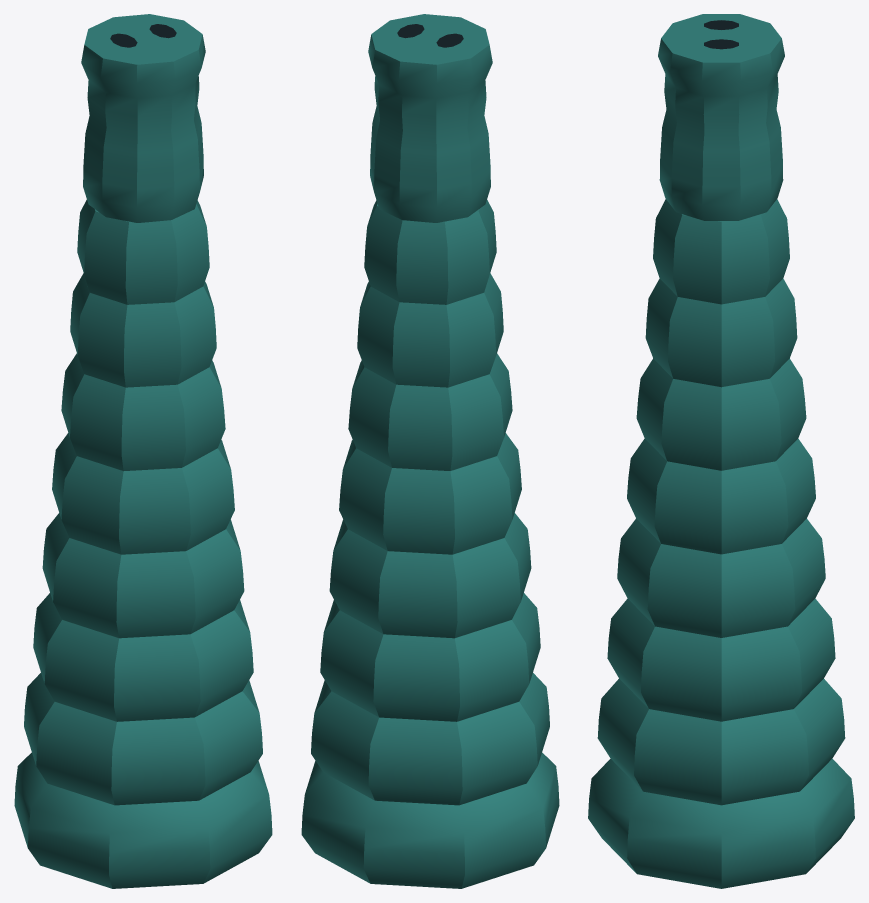
Rendered from trunk_long.glb.
The picture shows the model from 3 angles, left to right: view 1: azimuth 30°, elevation 25°; view 2: azimuth 150°, elevation 25°; view 3: azimuth 270°, elevation 25°; orthographic projection.
Parts seen in each view (by area): view 1: trunk_long_seg0, trunk_long_seg1, trunk_long_seg2, trunk_long_seg4, trunk_long_seg3; view 2: trunk_long_seg0, trunk_long_seg1, trunk_long_seg2, trunk_long_seg4, trunk_long_seg3; view 3: trunk_long_seg0, trunk_long_seg1, trunk_long_seg2, trunk_long_seg4, trunk_long_seg3.
Boxes of the visible parts, x1=… form: trunk_long_seg0: x1=14, y1=673, x2=272, y2=888; trunk_long_seg1: x1=33, y1=513, x2=253, y2=721; trunk_long_seg2: x1=52, y1=353, x2=234, y2=554; trunk_long_seg4: x1=81, y1=14, x2=205, y2=222; trunk_long_seg3: x1=70, y1=199, x2=216, y2=387; trunk_long_seg0: x1=301, y1=673, x2=559, y2=888; trunk_long_seg1: x1=320, y1=513, x2=540, y2=721; trunk_long_seg2: x1=339, y1=353, x2=521, y2=554; trunk_long_seg4: x1=368, y1=14, x2=492, y2=222; trunk_long_seg3: x1=357, y1=199, x2=503, y2=387; trunk_long_seg0: x1=588, y1=679, x2=854, y2=888; trunk_long_seg1: x1=607, y1=518, x2=835, y2=721; trunk_long_seg2: x1=627, y1=358, x2=815, y2=554; trunk_long_seg4: x1=658, y1=14, x2=784, y2=220; trunk_long_seg3: x1=645, y1=199, x2=797, y2=387.
Size of the model in its own units: 0.2721 by 0.904 by 0.2721.
